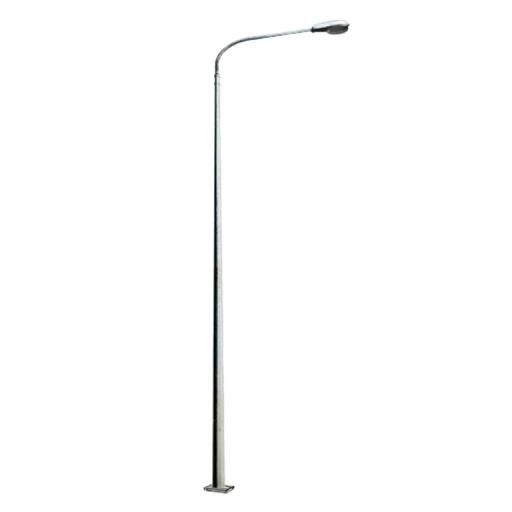Light-pole: (196, 19, 353, 500)
